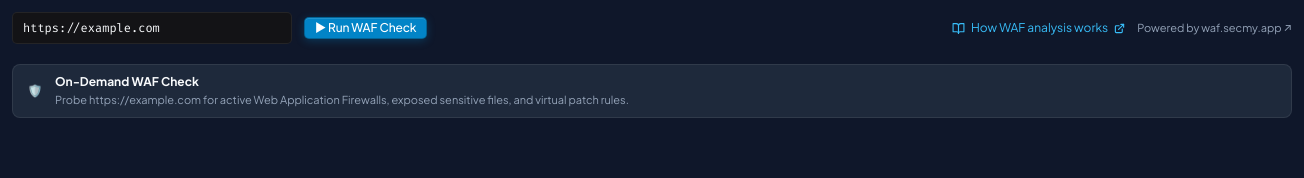
Test: WafCheckPanel Component › renders No WAF Detected card with recommendation and vendor chips
Step 1. Click the button with test id "run-waf-check-btn" → (366,28), box [304,17,427,39]
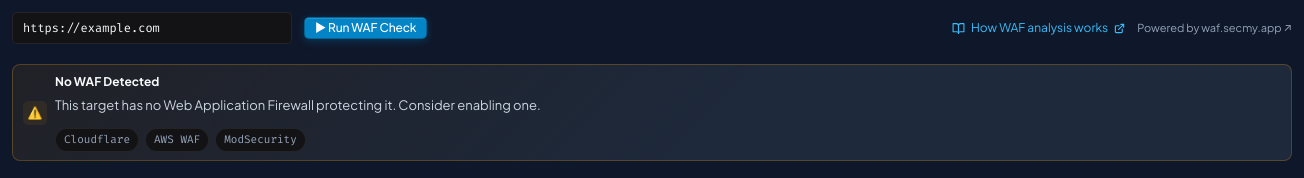
Expected: the element with test id "waf-check-recommendation" is shown, [12,64,1292,161]
Expected: the text "No WAF Detected" is shown, [55,74,159,89]
Expected: the text "This target has no Web Application Firewall protecting it" is shown, [55,97,541,113]
